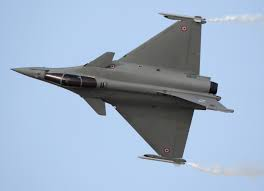fighter: (7, 8, 237, 168)
